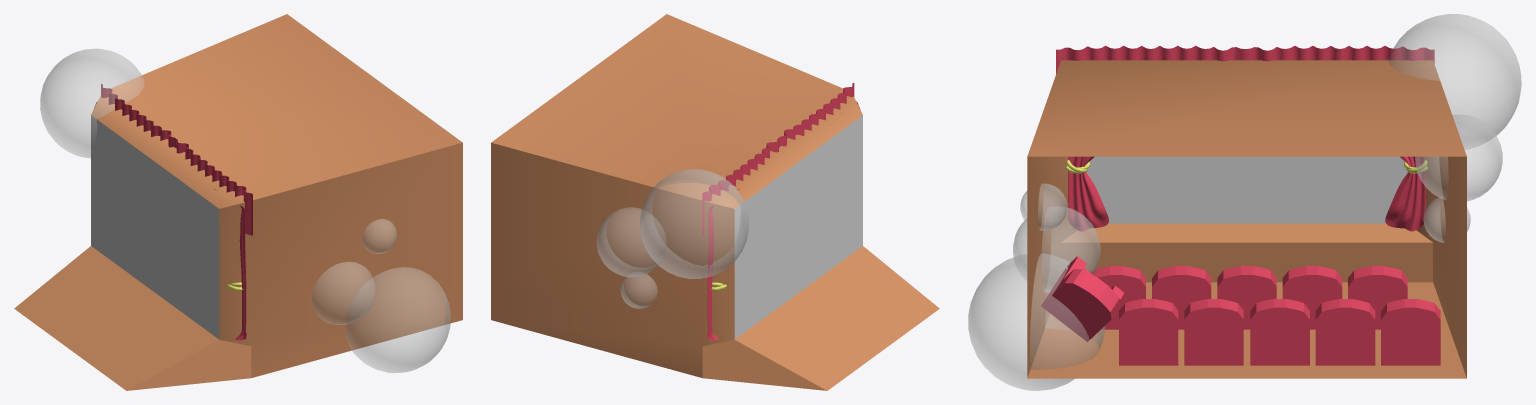
File: BubbleTheatre.fbx
The picture shows the model from 3 angles, left to right: view 1: azimuth 30°, elevation 25°; view 2: azimuth 150°, elevation 25°; view 3: azimuth 270°, elevation 25°; orthographic projection. The views are drawn at different scales.
Parts seen in each view (by area): view 1: Cubo, Esfera.001, Esfera.004, Esfera, Plane.001, Esfera.002, Plane; view 2: Cubo, Esfera.004, Esfera.003, Plane.001, Esfera.005, Plane; view 3: Cubo, Cubo.002, Esfera.001, Esfera.004, Plane.001, Plane, Esfera, Cubo.003, Esfera.003, Esfera.002, Esfera.005.
Part boxes in pixels (bbox=[...]): Cubo: bbox=[14, 14, 462, 390]; Esfera.001: bbox=[345, 267, 450, 373]; Esfera.004: bbox=[40, 48, 144, 158]; Esfera: bbox=[312, 262, 374, 324]; Plane.001: bbox=[101, 84, 252, 235]; Esfera.002: bbox=[362, 219, 396, 253]; Plane: bbox=[94, 101, 246, 340]; Cubo: bbox=[491, 14, 939, 390]; Esfera.004: bbox=[639, 169, 748, 278]; Esfera.003: bbox=[596, 207, 666, 277]; Plane.001: bbox=[702, 83, 854, 234]; Esfera.005: bbox=[620, 274, 657, 308]; Plane: bbox=[707, 101, 860, 340]; Cubo: bbox=[1027, 60, 1466, 378]; Cubo.002: bbox=[1091, 266, 1440, 365]; Esfera.001: bbox=[968, 253, 1105, 390]; Esfera.004: bbox=[1388, 14, 1521, 149]; Plane.001: bbox=[1056, 45, 1434, 73]; Plane: bbox=[1068, 156, 1425, 231]; Esfera: bbox=[1013, 206, 1100, 292]; Cubo.003: bbox=[1041, 256, 1123, 341]; Esfera.003: bbox=[1415, 114, 1502, 201]; Esfera.002: bbox=[1020, 183, 1067, 230]; Esfera.005: bbox=[1423, 197, 1470, 242].
Bounding box in the file's own units: 1502 × 1061 × 1888.
